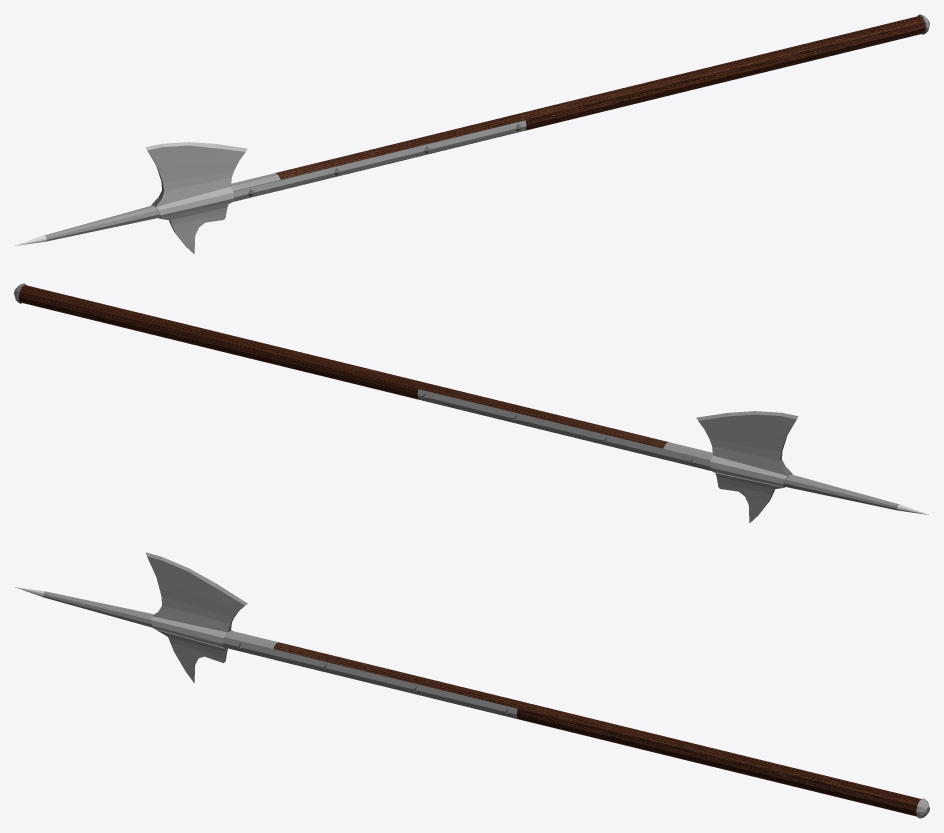
The model's file is HalberdSpear.fbx.
The picture shows the model from 3 angles, top to bottom: view 1: azimuth 30°, elevation 25°; view 2: azimuth 150°, elevation 25°; view 3: azimuth 330°, elevation 25°; orthographic projection.
Parts seen in each view (by area): view 1: ZomboidHalberd; view 2: ZomboidHalberd; view 3: ZomboidHalberd.
Part boxes in pixels (box(x1,y1,x2,y2)): ZomboidHalberd: box(15, 14, 929, 253); ZomboidHalberd: box(14, 283, 928, 522); ZomboidHalberd: box(15, 552, 929, 818).
Size of the model in its own units: 1.4 by 0.1752 by 0.0334.
